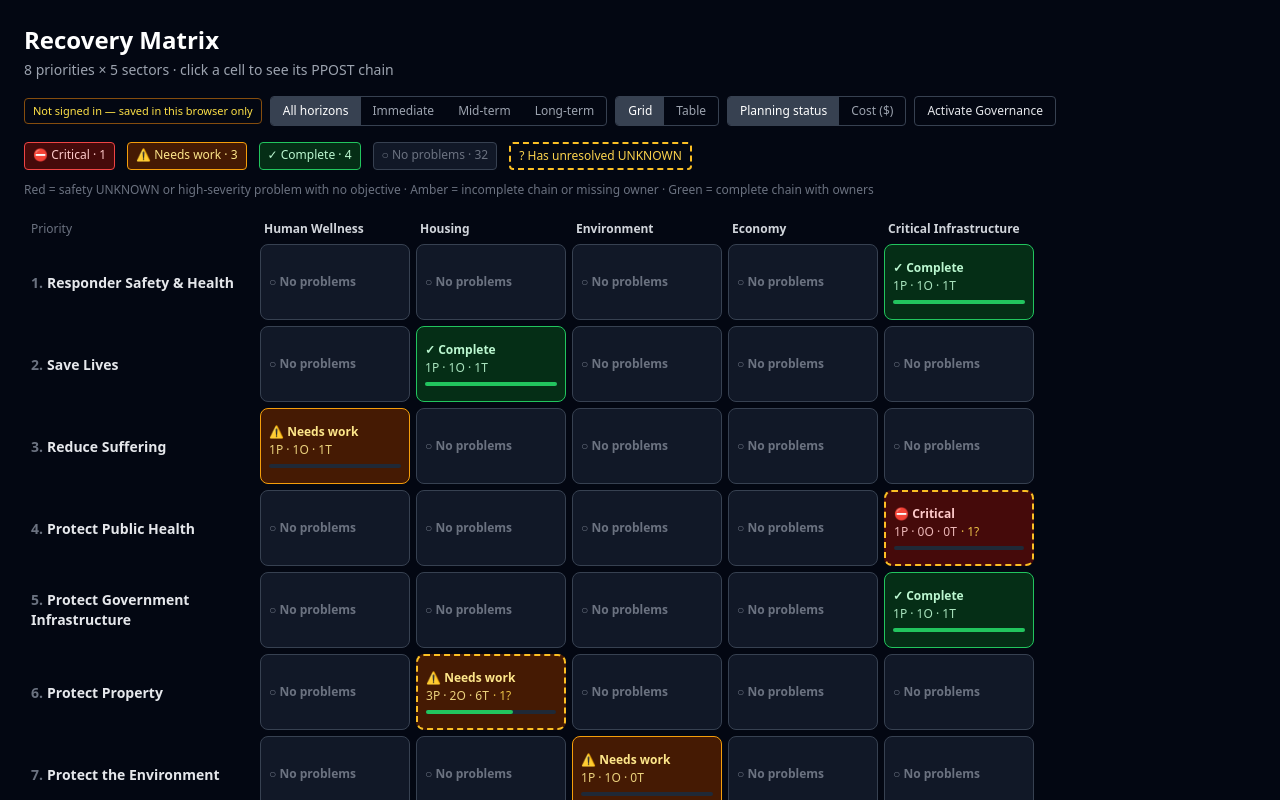
Test: Cost view shows how much money each area needs, finalized vs draft
Click the button "Cost ($)".
click(872, 111)  # box [839,97,905,125]
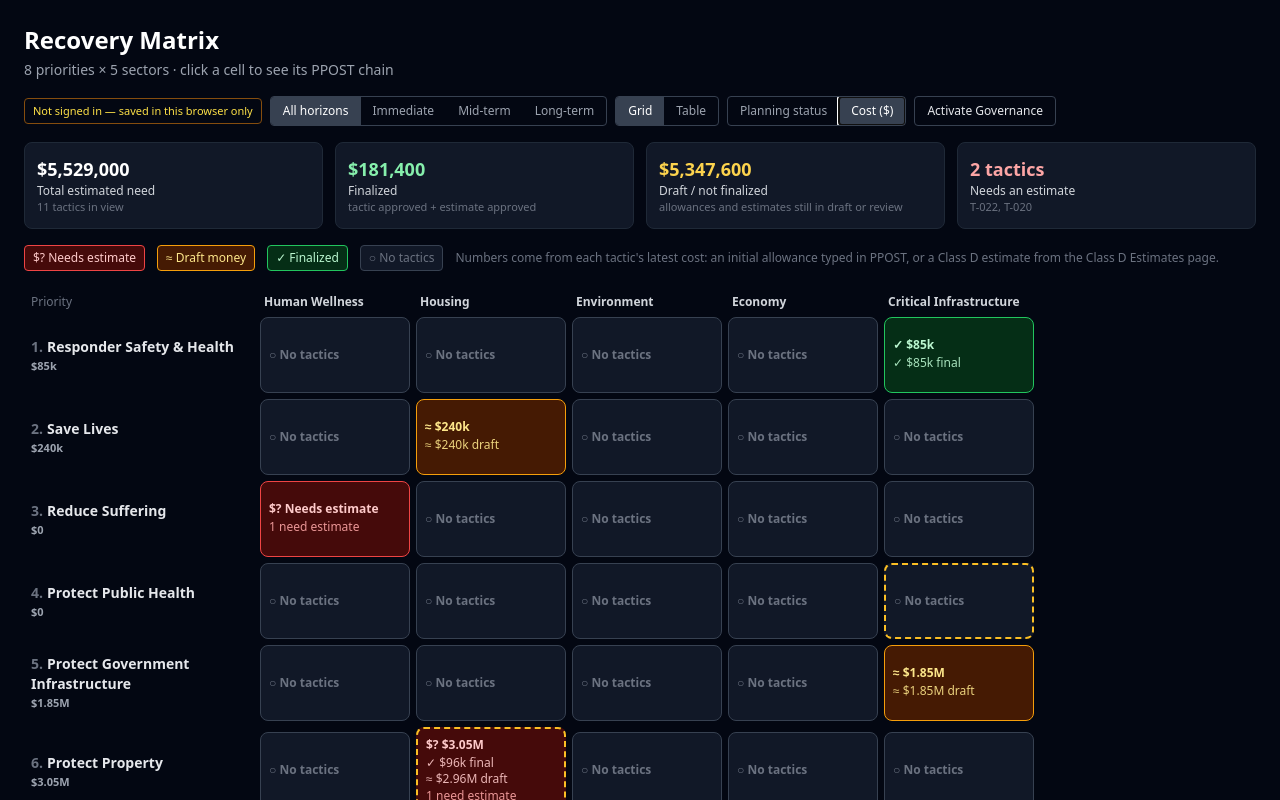
Result: the element named "Cost summary" shows "Needs an estimate" at [970,182,1075,199]
